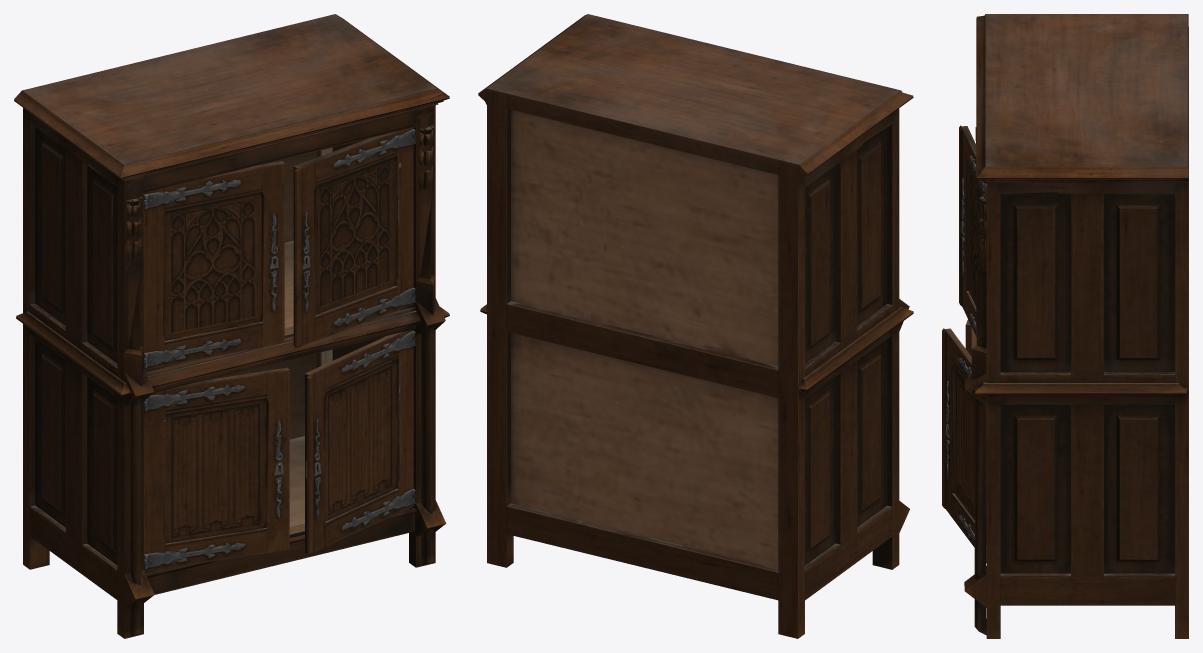
Rendered from GothicCabinet_01_lod2.glb.
3 views of the same model, side by side, from view 1: azimuth 30°, elevation 25°; view 2: azimuth 150°, elevation 25°; view 3: azimuth 270°, elevation 25° (orthographic).
Visible parts, largest first — view 1: GothicCabinet_01_cabinet, GothicCabinet_01_door3, GothicCabinet_01_door1, GothicCabinet_01_door2, GothicCabinet_01_door4; view 2: GothicCabinet_01_cabinet; view 3: GothicCabinet_01_cabinet, GothicCabinet_01_door4, GothicCabinet_01_door2.
Part boxes in pixels (<box>): GothicCabinet_01_cabinet: <box>14,14,449,638</box>; GothicCabinet_01_door3: <box>144,367,289,572</box>; GothicCabinet_01_door1: <box>144,161,284,370</box>; GothicCabinet_01_door2: <box>293,128,415,347</box>; GothicCabinet_01_door4: <box>305,330,415,555</box>; GothicCabinet_01_cabinet: <box>478,14,913,638</box>; GothicCabinet_01_cabinet: <box>964,14,1188,638</box>; GothicCabinet_01_door4: <box>942,328,986,563</box>; GothicCabinet_01_door2: <box>959,125,986,336</box>.
Bounding box in the file's own units: 1.71 × 2.36 × 1.12.
1 material, 1 textured.
